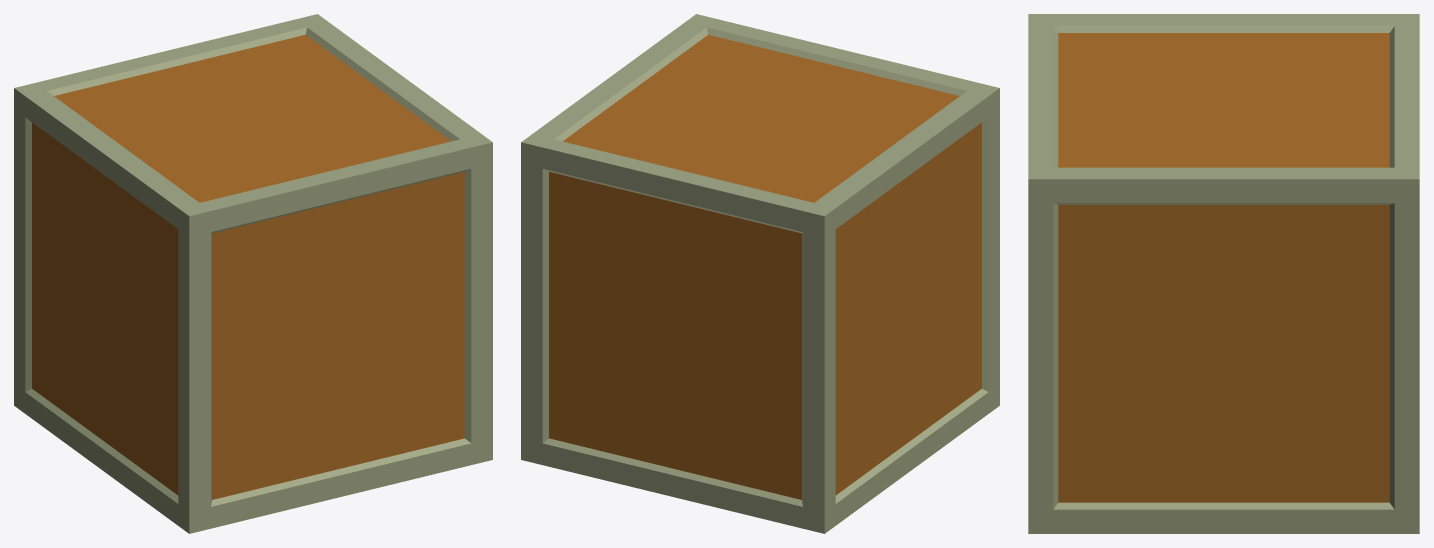
The model's file is military_wall_block.gltf.
The picture shows the model from 3 angles, left to right: view 1: azimuth 30°, elevation 25°; view 2: azimuth 150°, elevation 25°; view 3: azimuth 270°, elevation 25°; orthographic projection. The views are drawn at different scales.
Parts seen in each view (by area): view 1: MilitaryWallBlock; view 2: MilitaryWallBlock; view 3: MilitaryWallBlock.
Part boxes in pixels (x1=…): MilitaryWallBlock: x1=14, y1=14, x2=492, y2=533; MilitaryWallBlock: x1=521, y1=14, x2=999, y2=533; MilitaryWallBlock: x1=1028, y1=14, x2=1419, y2=533.
Bounding box in the file's own units: 3.72 × 3.72 × 3.72.
